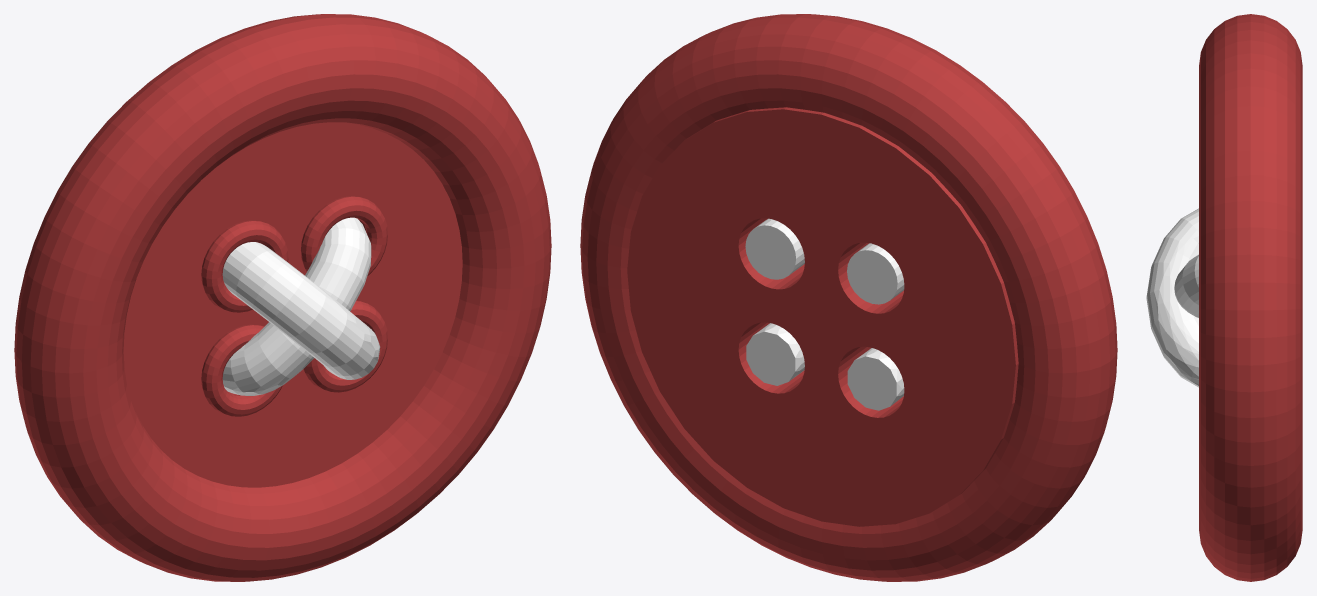
File: Button_thread.glb
3 renders of one model, left to right at view 1: azimuth 30°, elevation 25°; view 2: azimuth 150°, elevation 25°; view 3: azimuth 270°, elevation 25°, orthographic. The views are drawn at different scales.
Visible parts, largest first — view 1: Button_body, Circle.003; view 2: Button_body, Circle.003; view 3: Button_body, Circle.003.
Boxes of the visible parts, left/top/right/bottom form: Button_body: left=14, top=14, right=551, bottom=581; Circle.003: left=222, top=217, right=380, bottom=395; Button_body: left=580, top=14, right=1117, bottom=581; Circle.003: left=745, top=218, right=904, bottom=410; Button_body: left=1199, top=14, right=1302, bottom=581; Circle.003: left=1146, top=208, right=1198, bottom=387.
Bounding box in the file's own units: 15.75 × 15.75 × 4.32.
